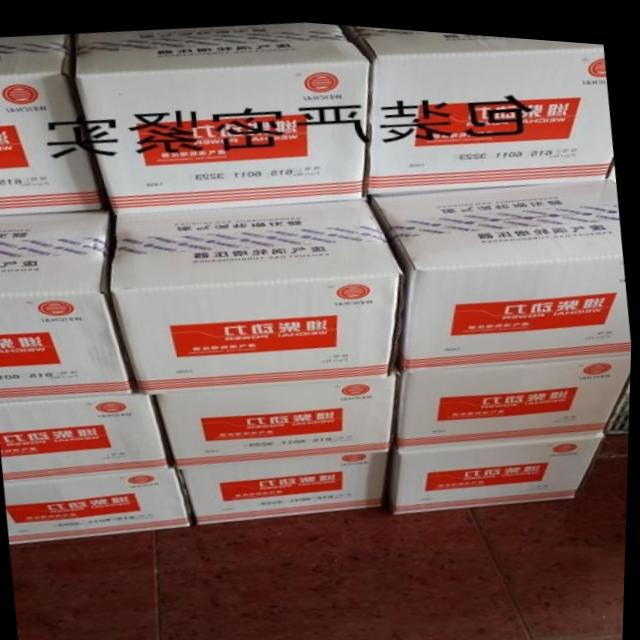box: (110, 193, 407, 392), (71, 18, 370, 213), (369, 170, 633, 367), (338, 20, 615, 191), (0, 208, 138, 401), (393, 344, 633, 444), (154, 369, 400, 466), (0, 33, 106, 214), (391, 422, 608, 510), (183, 444, 392, 522), (0, 391, 173, 483), (6, 464, 197, 544)
